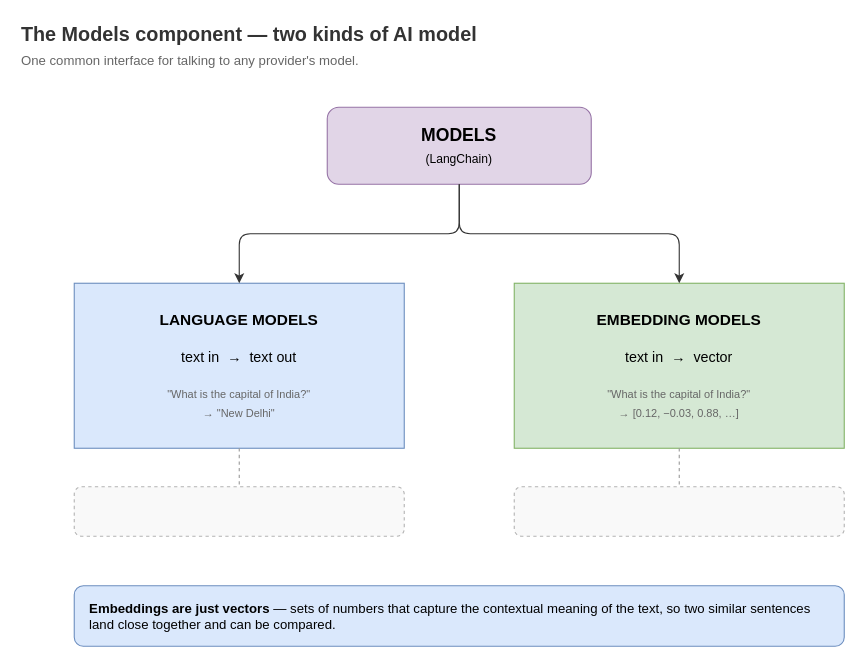
This 864x666 diagram has some shape labels left out. Each missing label, with the centre of its shape:
"build chatbots , agents" goes at (238,511).
"semantic search , and therefore RAG" goes at (678,511).
